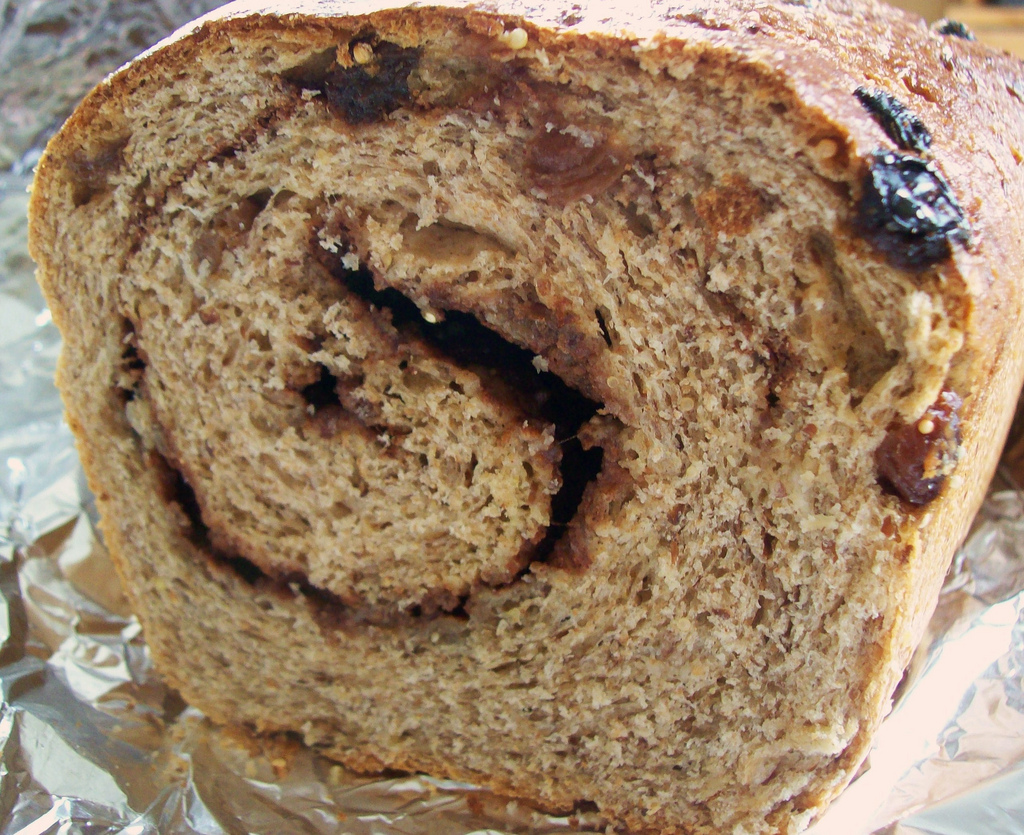slice of bread: (43, 14, 997, 826)
